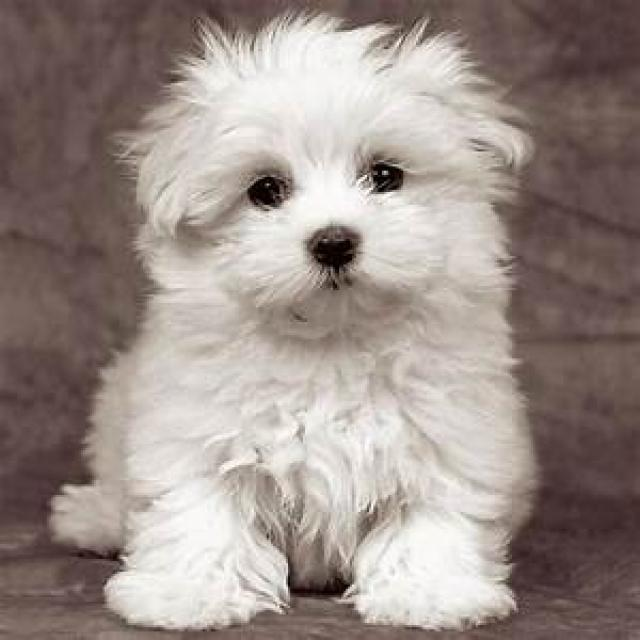dog: (51, 15, 535, 628)
